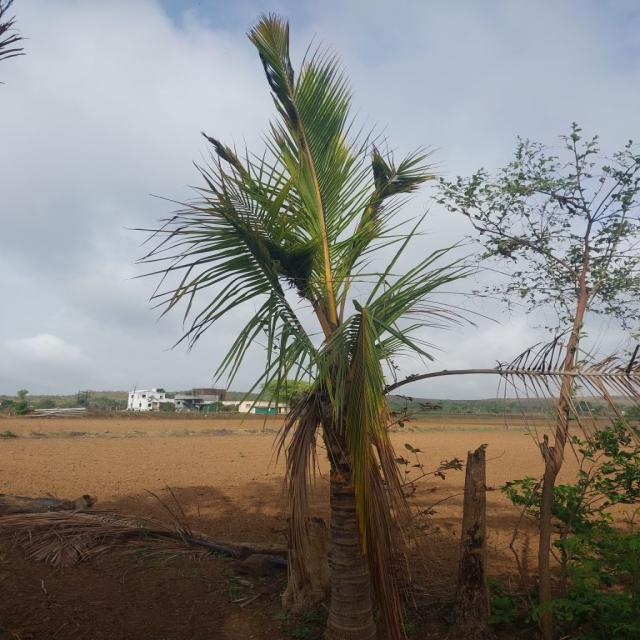bud root dropping: (142, 15, 468, 640)
